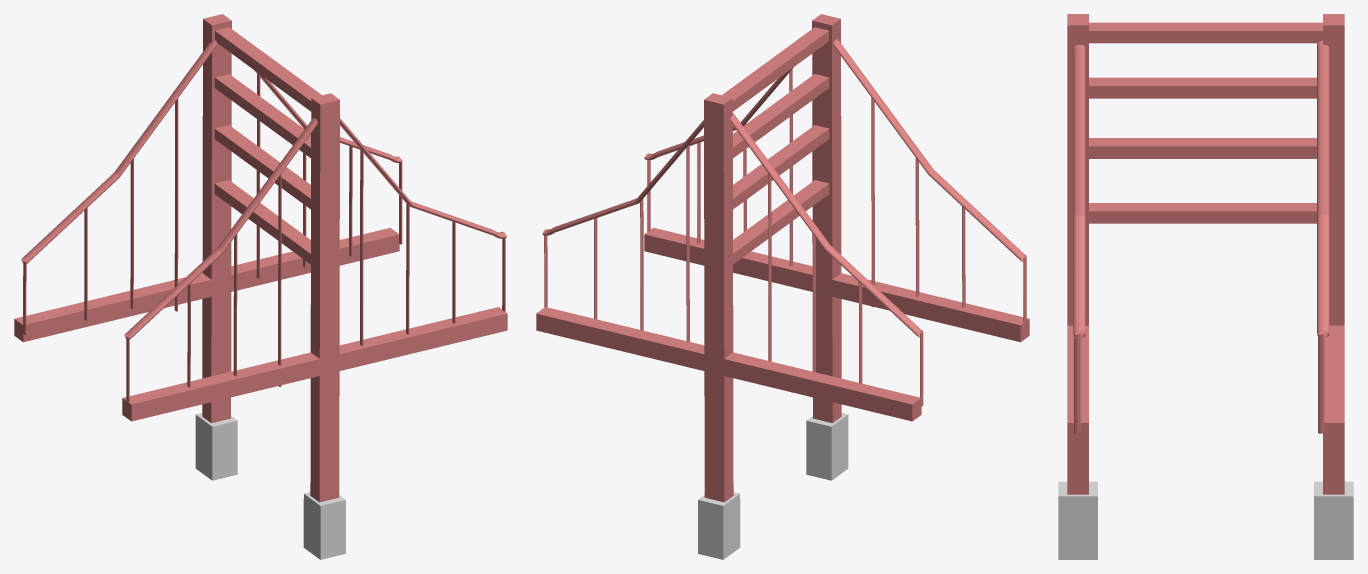
Rendered from road_bridge_2.glb.
3 views of the same model, side by side, from view 1: azimuth 30°, elevation 25°; view 2: azimuth 150°, elevation 25°; view 3: azimuth 270°, elevation 25° (orthographic). The views are drawn at different scales.
Parts seen in each view (by area): view 1: Bridge2; view 2: Bridge2; view 3: Bridge2.
Boxes of the visible parts, <box> form: Bridge2: <box>14,14,507,559</box>; Bridge2: <box>536,14,1029,559</box>; Bridge2: <box>1058,14,1353,559</box>.
Bounding box in the file's own units: 48.26 × 55.06 × 27.63.
